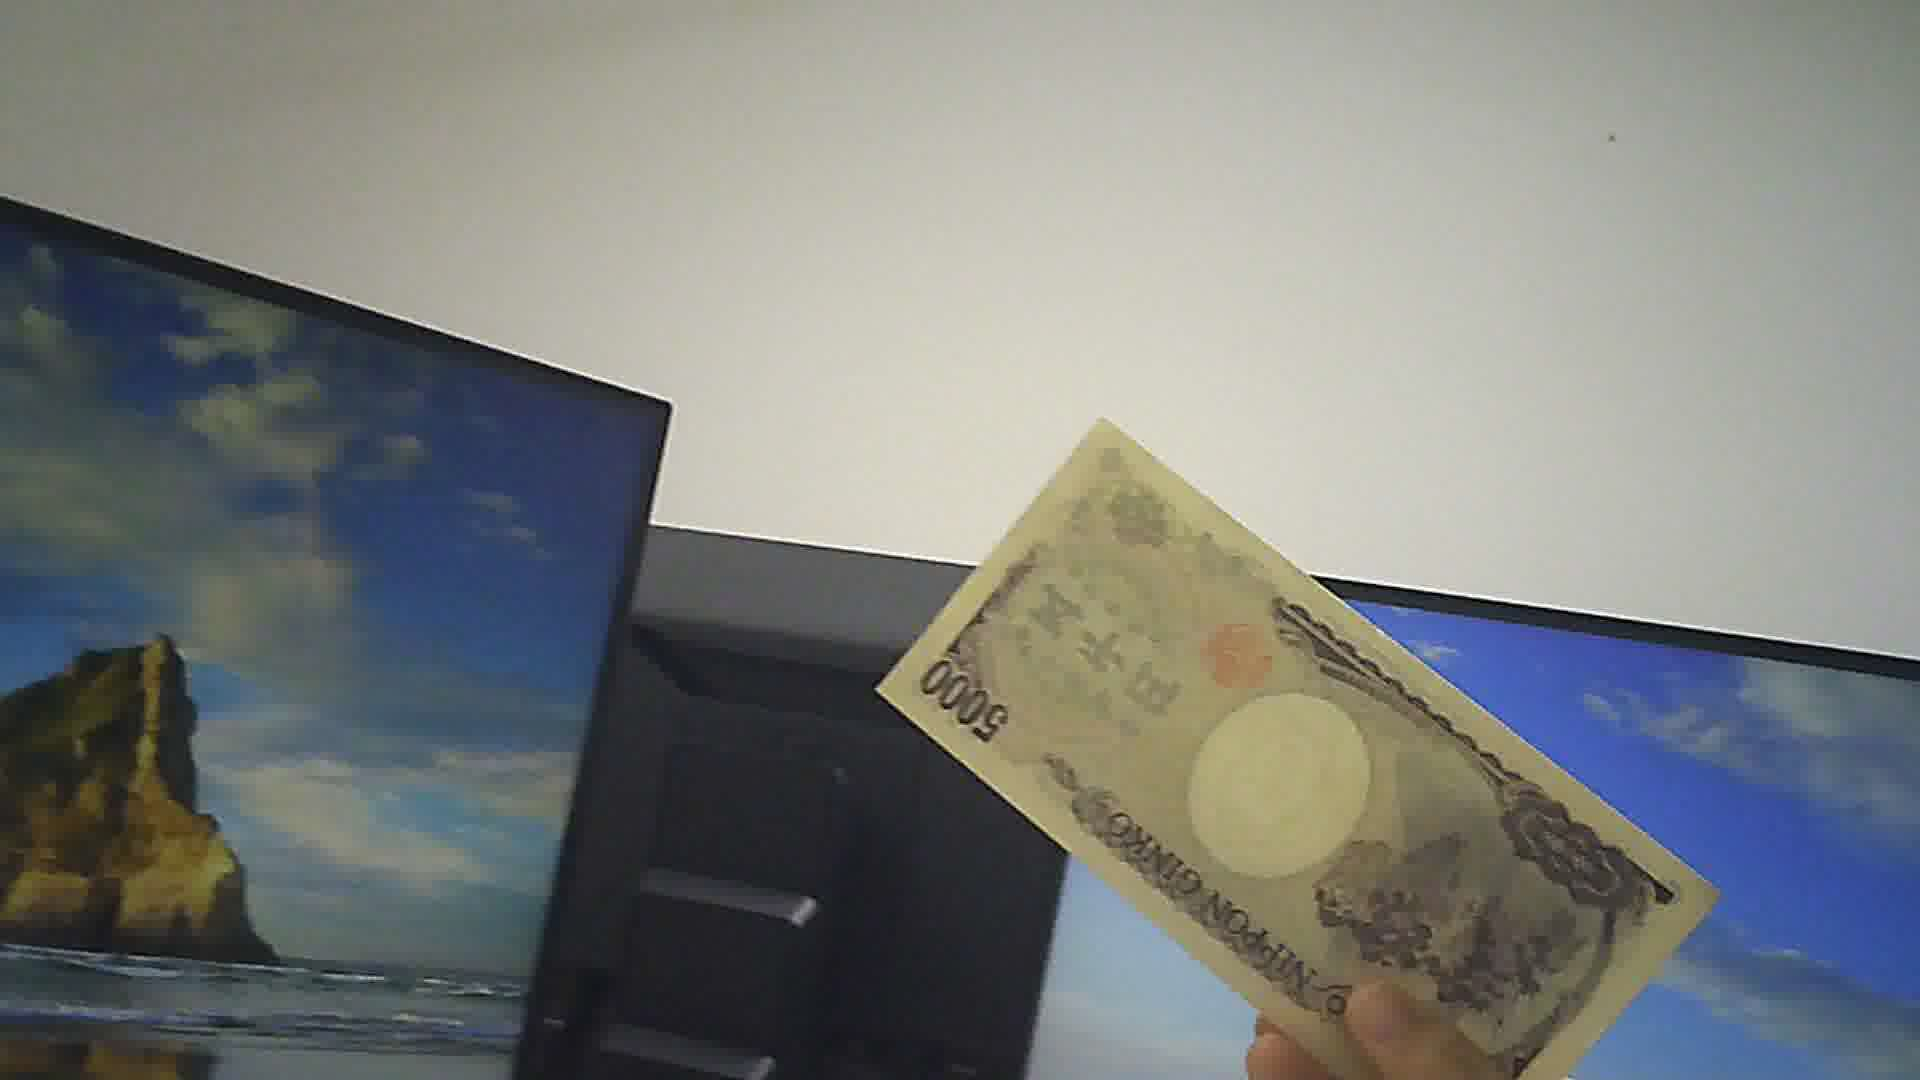5,000 Yen: (884, 402, 1720, 1069)
